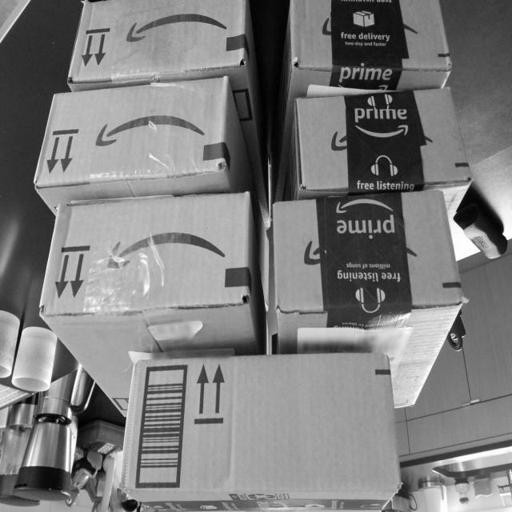Amazon: (123, 352, 400, 503), (262, 197, 467, 387), (35, 190, 261, 350), (33, 77, 239, 193), (289, 89, 477, 192), (284, 0, 453, 85), (68, 0, 252, 77)
